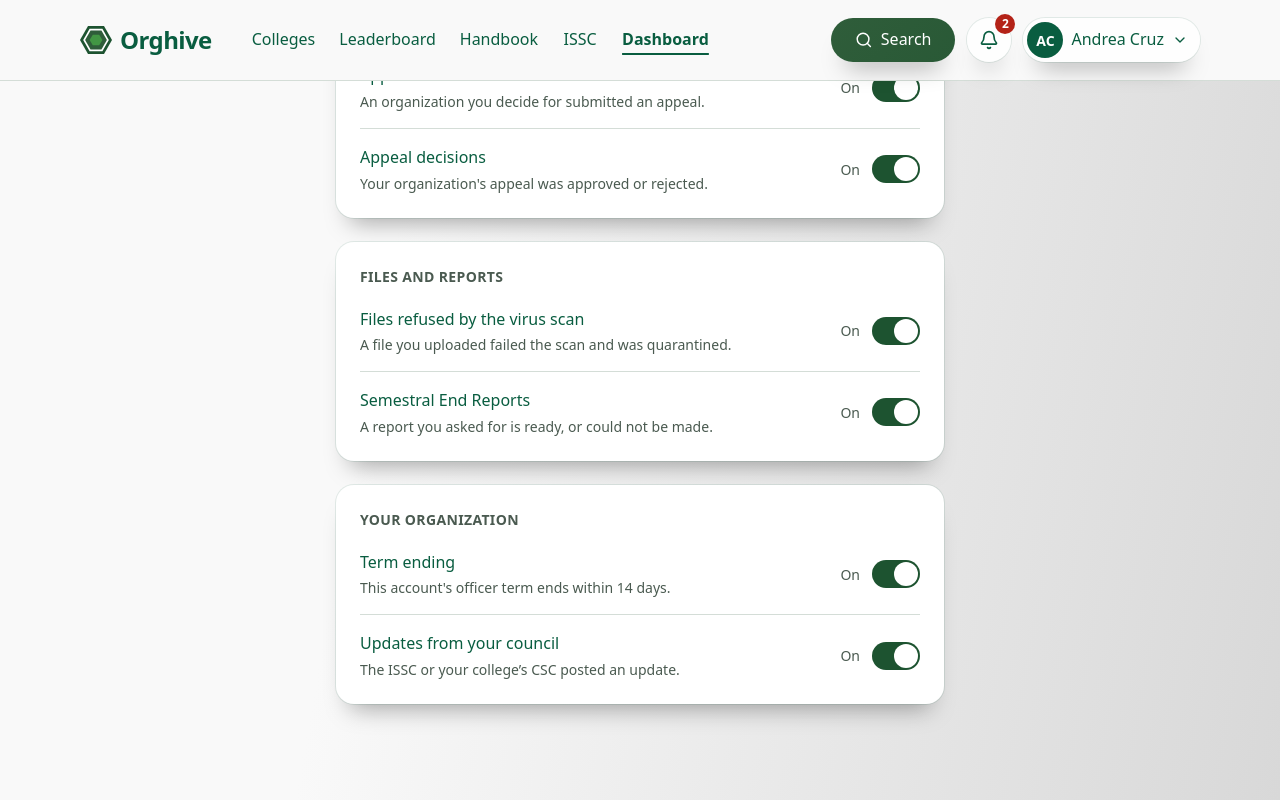
Test: /dashboard/notifications/settings › flips the switch back when saving fails
The image size is (1280, 800).
(page scrolled)
Step 1. Click the switch named "Term ending" in the row of "Term ending" → [896, 574], box x1=872 y1=560 x2=920 y2=588
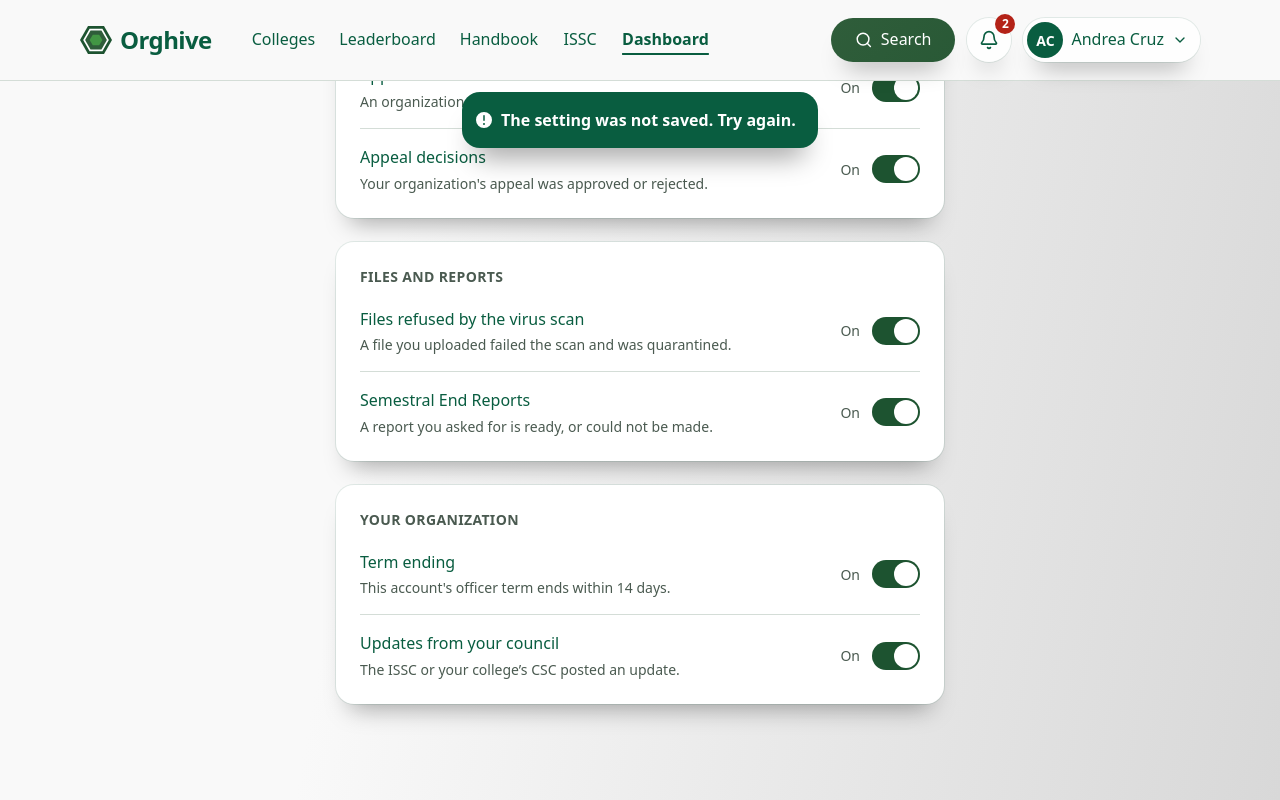
Expected: the text "The setting was not saved. Try again." is shown, x1=501 y1=108 x2=796 y2=132
